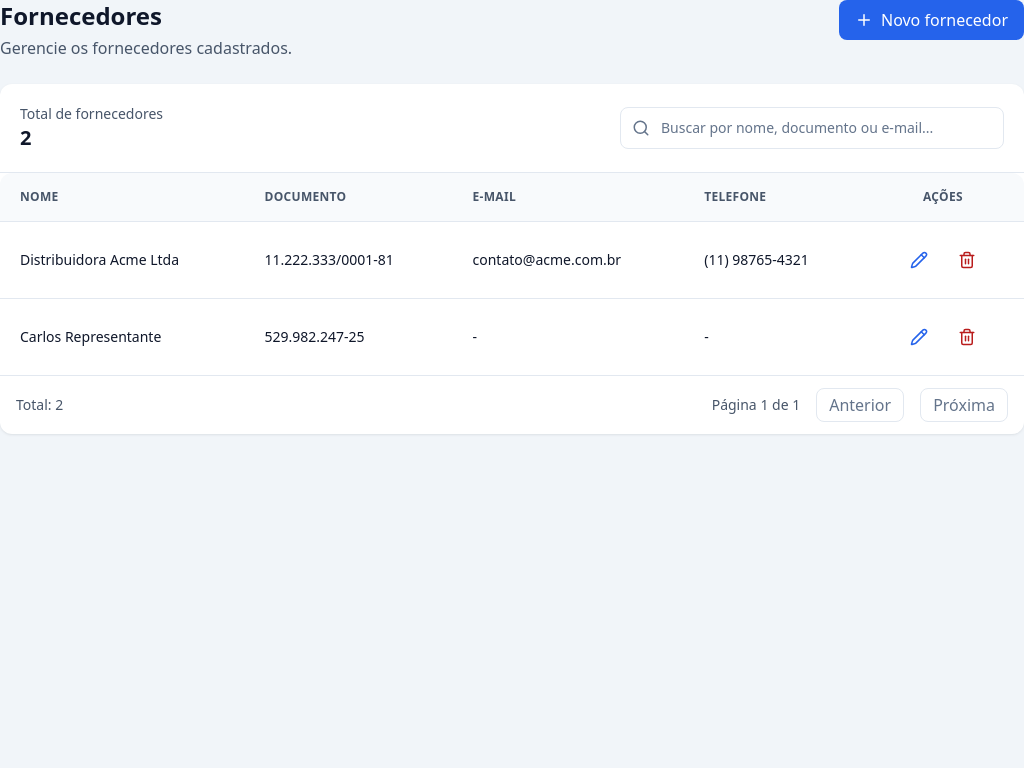
Scenario: SupplierListPage › clique duplo em "Cadastrar fornecedor" envia um único cadastro
Expected: the text "Distribuidora Acme Ltda" is shown, [0,222,244,298]
Click the button "Novo fornecedor": point(932, 20) [839,0,1023,40]
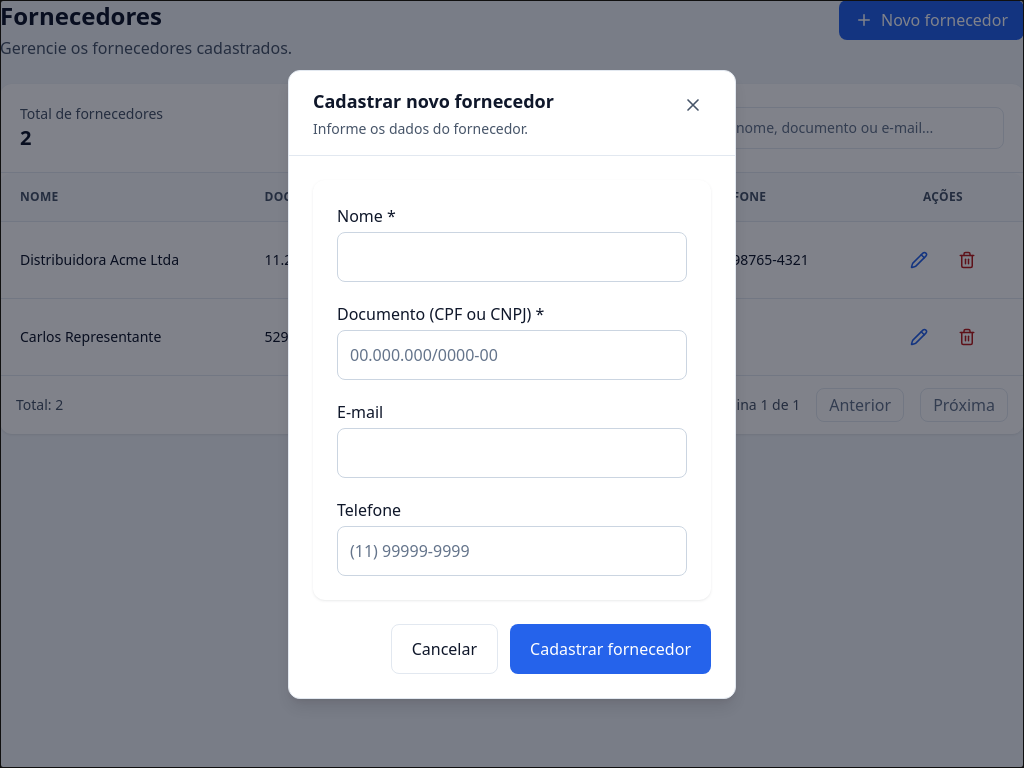
In the field labelled "Nome *": point(512, 256) [337,232,687,282], type "Fornecedor Novo"
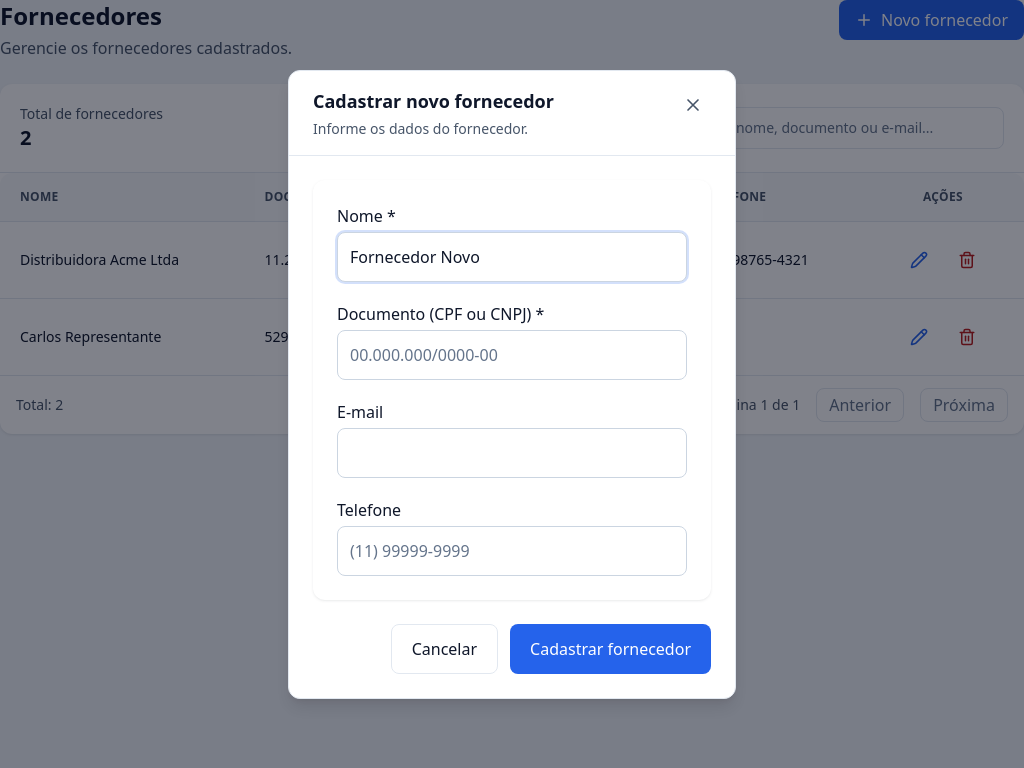
In the field labelled "Documento (CPF ou CNPJ) *": point(512, 354) [337,330,687,380], type "11222333000181"
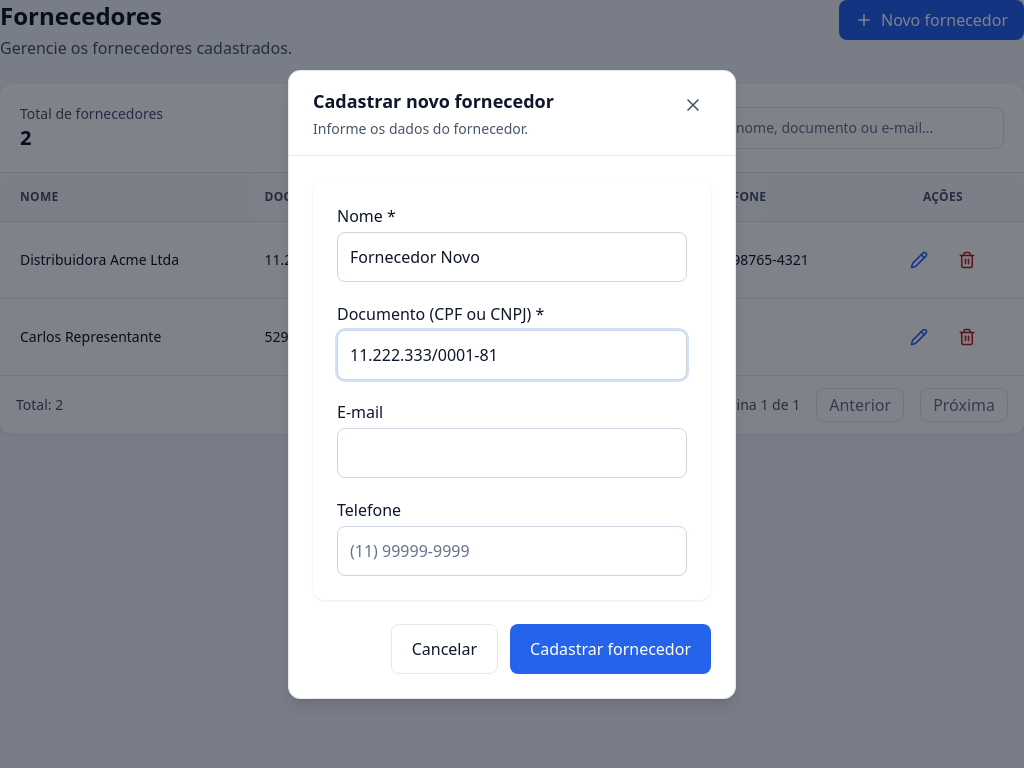
Double-click the button "Cadastrar fornecedor": point(611, 648) [510,624,711,674]
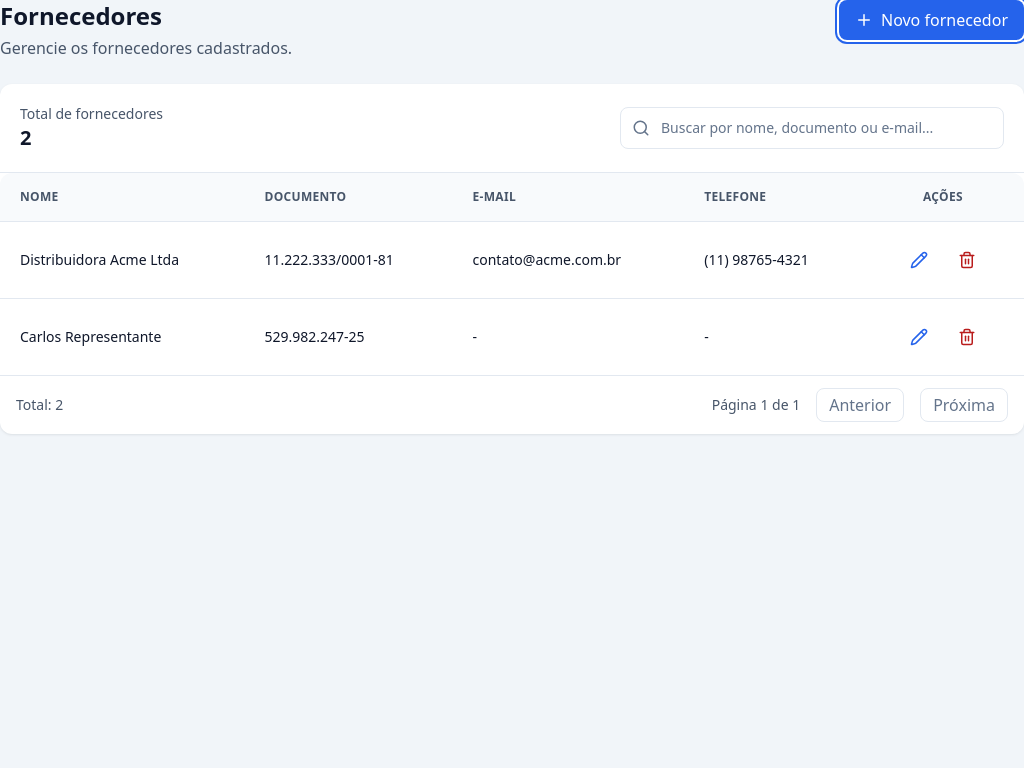
Expected: the dialog is gone
